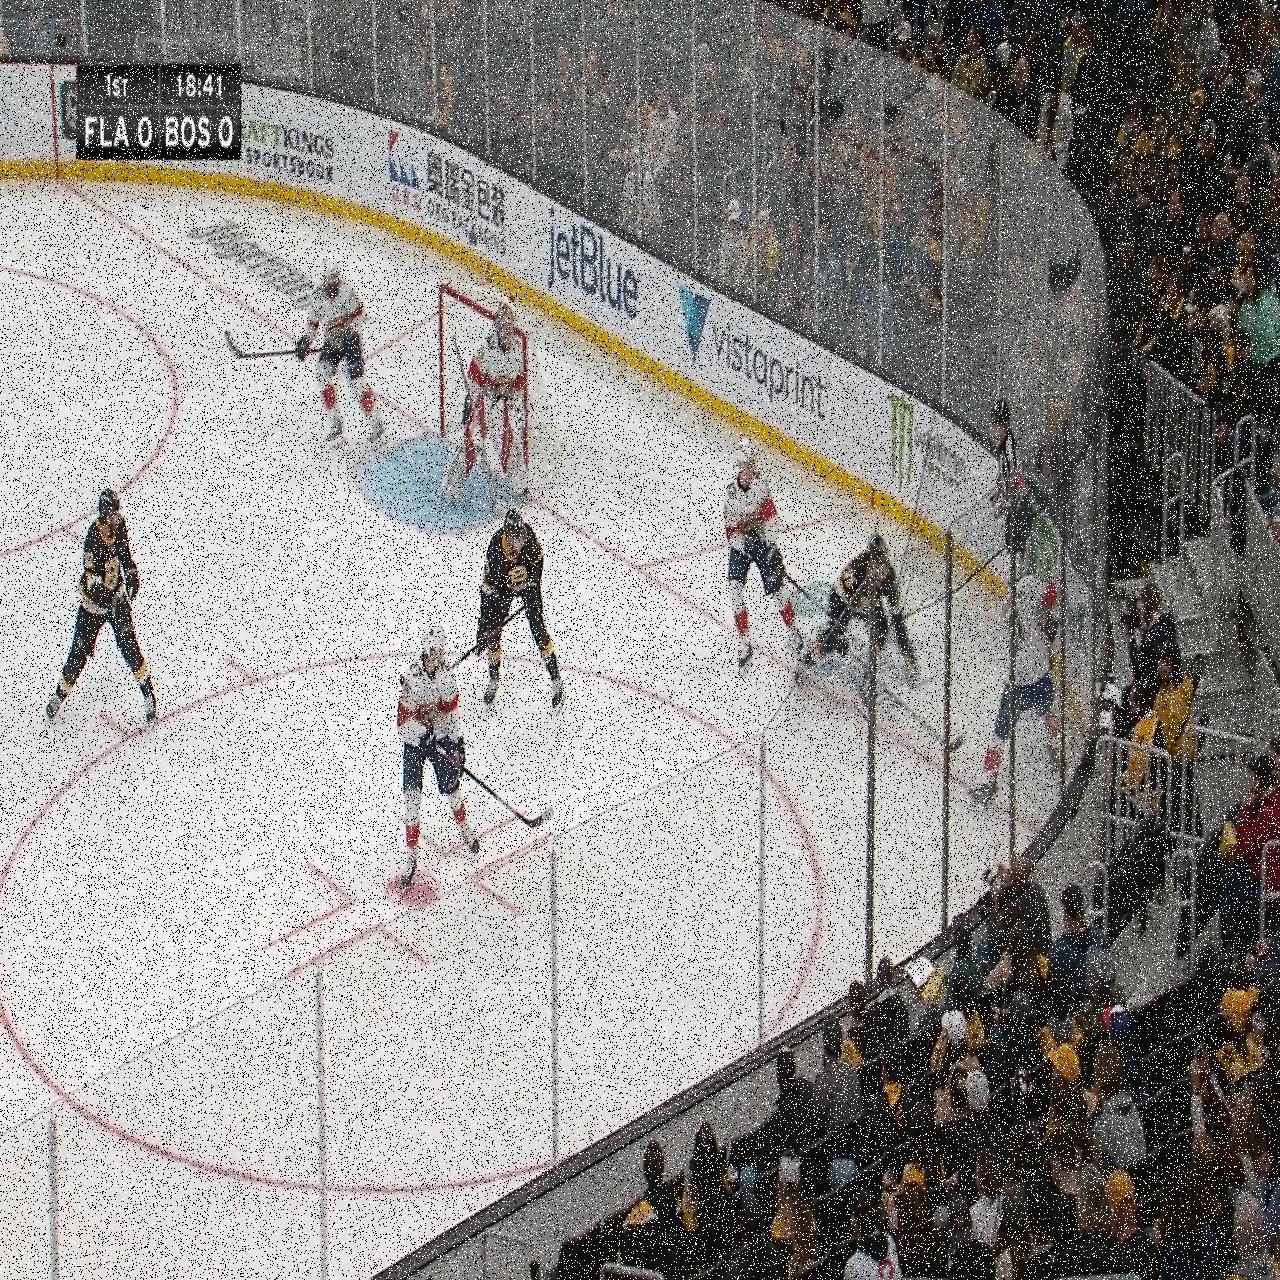Ad: (680, 282, 831, 436), (188, 213, 374, 326), (381, 128, 518, 253), (543, 202, 641, 329), (892, 390, 975, 515), (241, 111, 342, 185)
